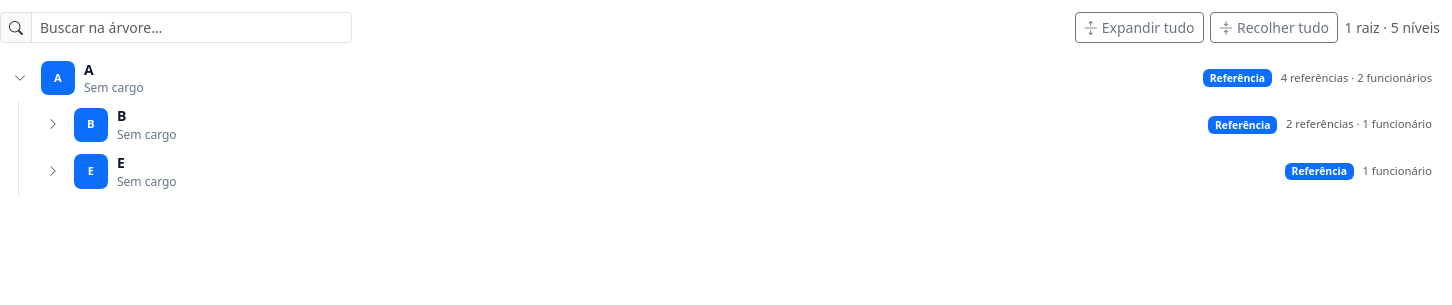
Test: ReferenciaTree › filtra mantendo os ancestrais do resultado
In the search field named "Buscar na árvore de referências": (192, 28) [31,12,352,43], type "FUNCIONARIO X"
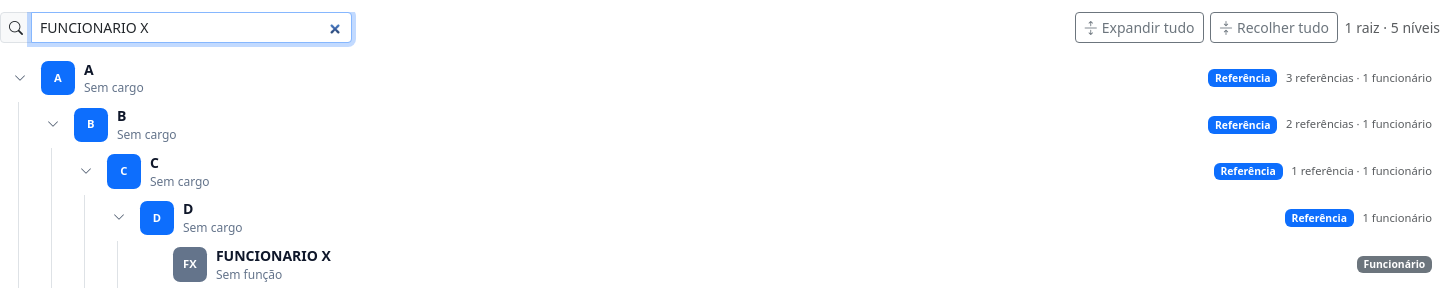
Result: the 2nd text "C" is shown at [150,154,159,172]
Result: the 2nd text "D" is shown at [183,200,193,218]
Result: the text "FUNCIONARIO X" is shown at [216,247,331,265]
